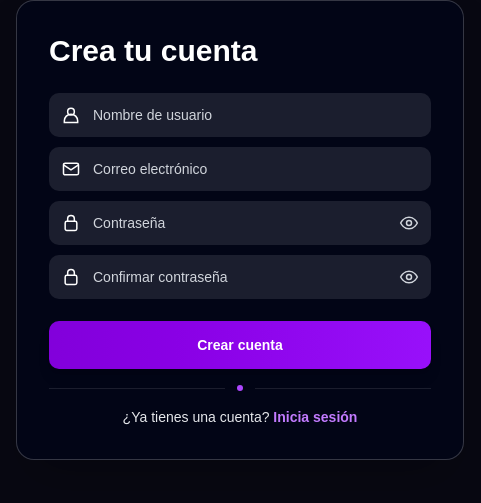
it: RegisterForm › should reject an empty username
Click the button "Crear cuenta".
click(240, 345)  # box x1=49 y1=321 x2=431 y2=369
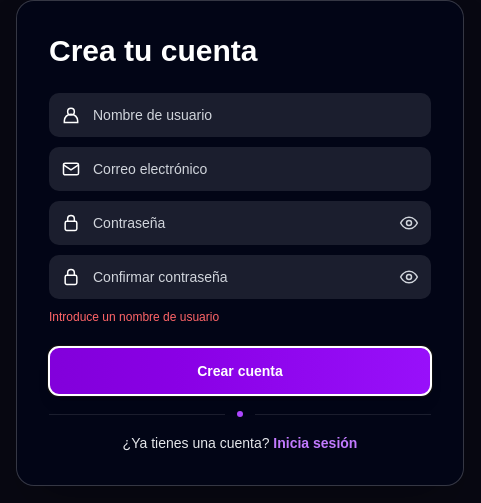
Expected: the message reads "Introduce un nombre de usuario", x1=49 y1=310 x2=219 y2=324
